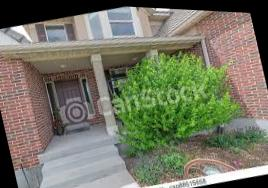Bench: (24, 131, 140, 188)
